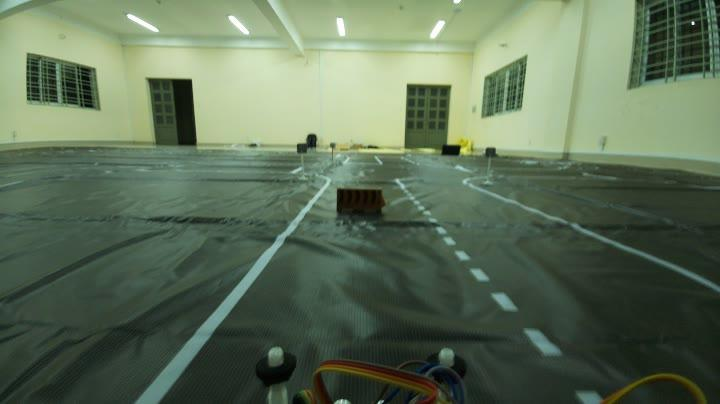roadblock: (334, 183, 391, 221)
